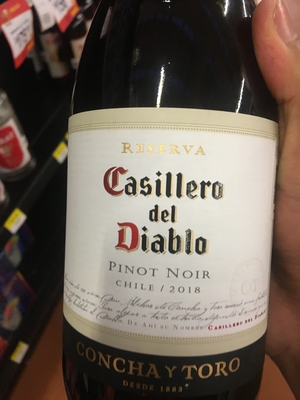casillero del diablo pinot noir: (58, 25, 277, 400)
